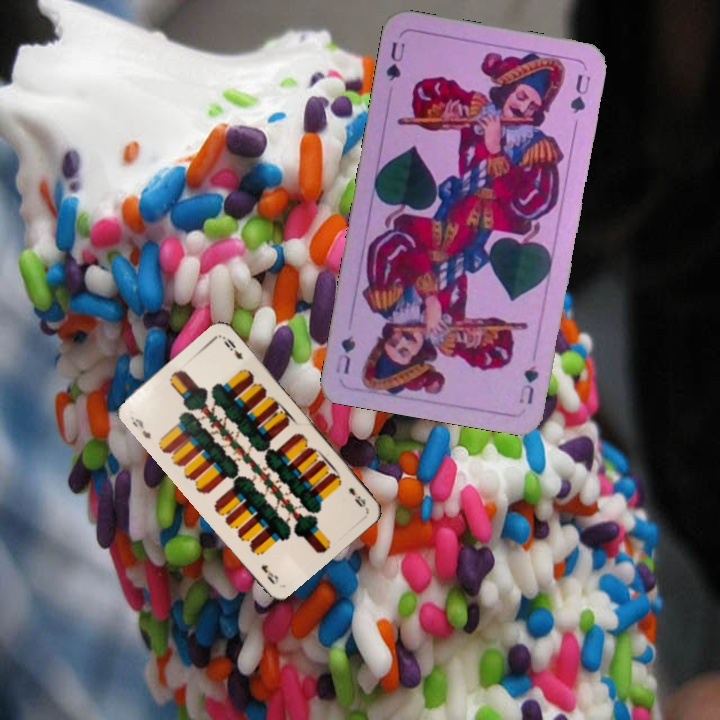E9: (128, 414, 153, 442), (345, 483, 369, 510)
GU: (514, 361, 542, 407), (382, 37, 408, 84)
